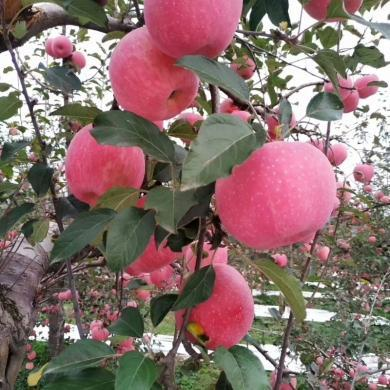apple: (214, 142, 339, 251), (109, 25, 200, 125), (180, 262, 255, 354), (63, 121, 143, 204), (228, 52, 257, 79), (325, 1, 363, 19)
